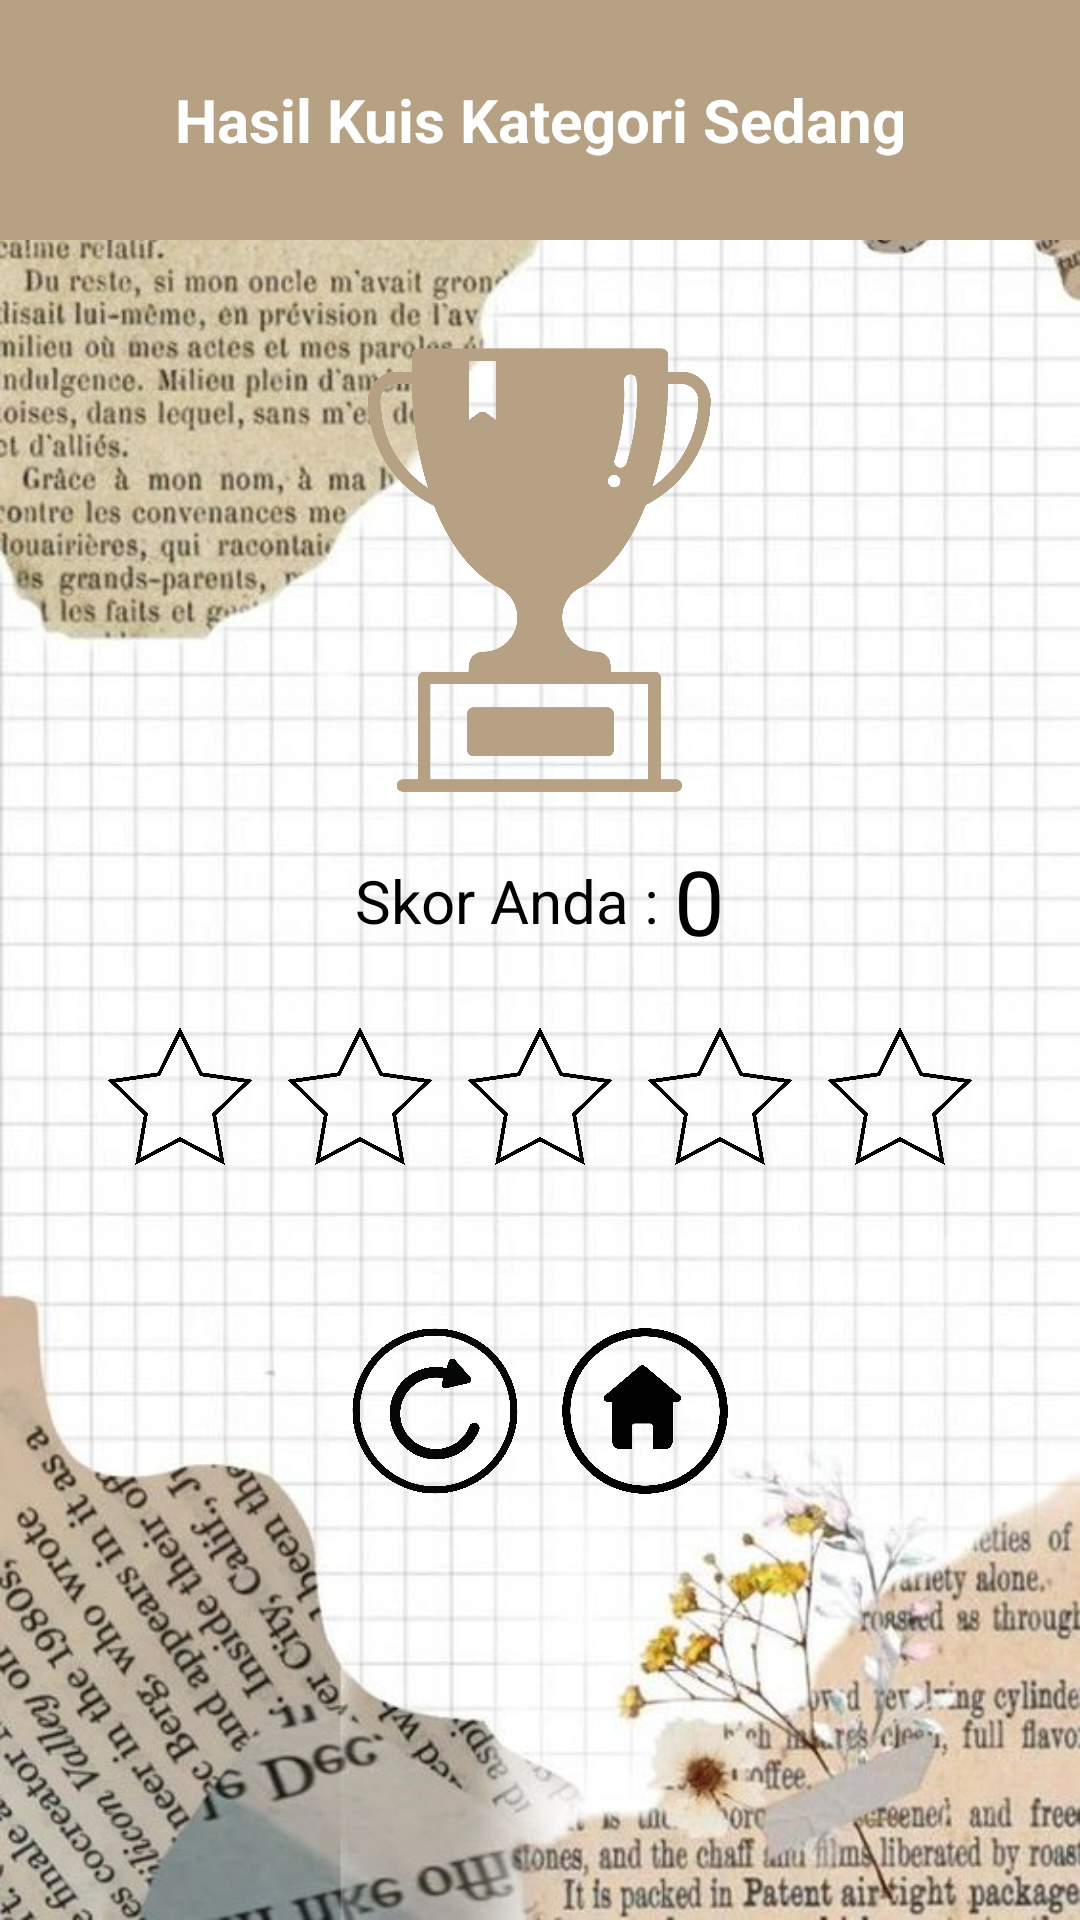

Icon click points for this 1080px x 1920px phone screenshot, format point (x, y):
replay: point (432, 1409)
star off: point (180, 1096), point (360, 1096), point (540, 1096), point (720, 1096), point (900, 1096)
